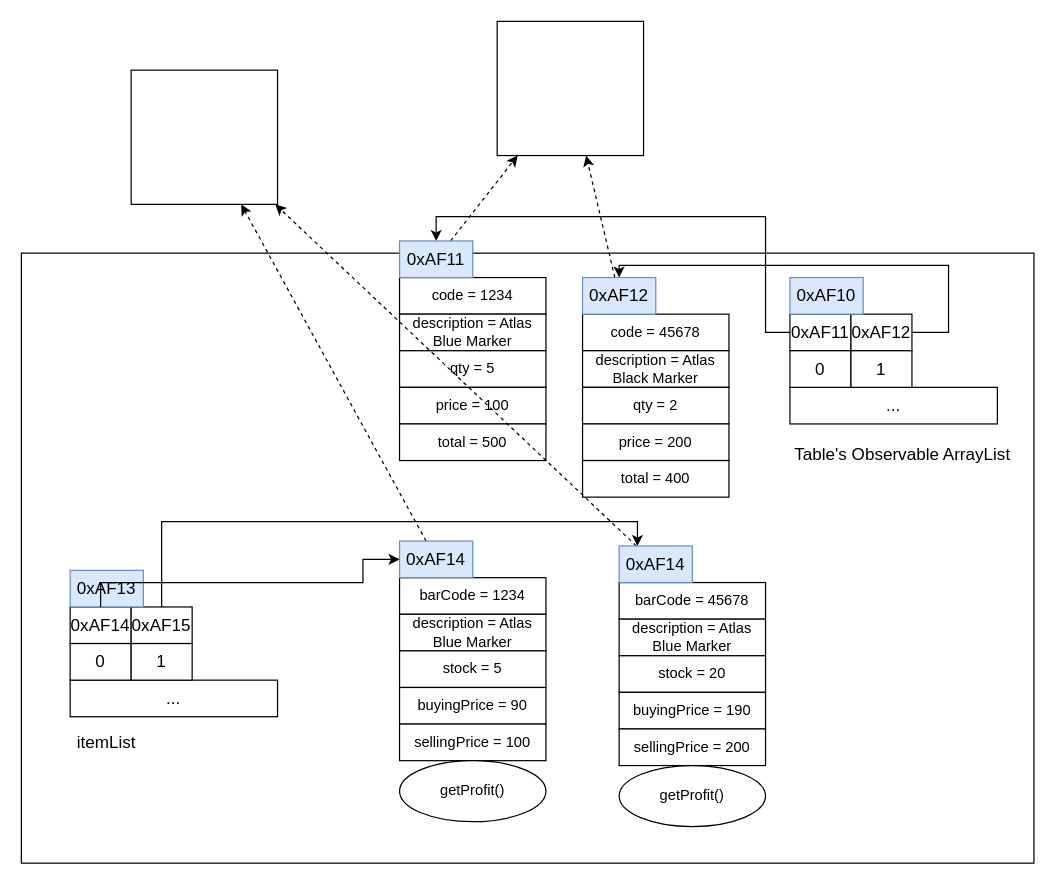
This 1055x885 diagram has some shape labels left out. Here are the shapes that lost their labels. From the top down, the centre of each, then its label:
At point 570,88: "CartItem Class Object".
At point 204,136: "Item Class Object".
